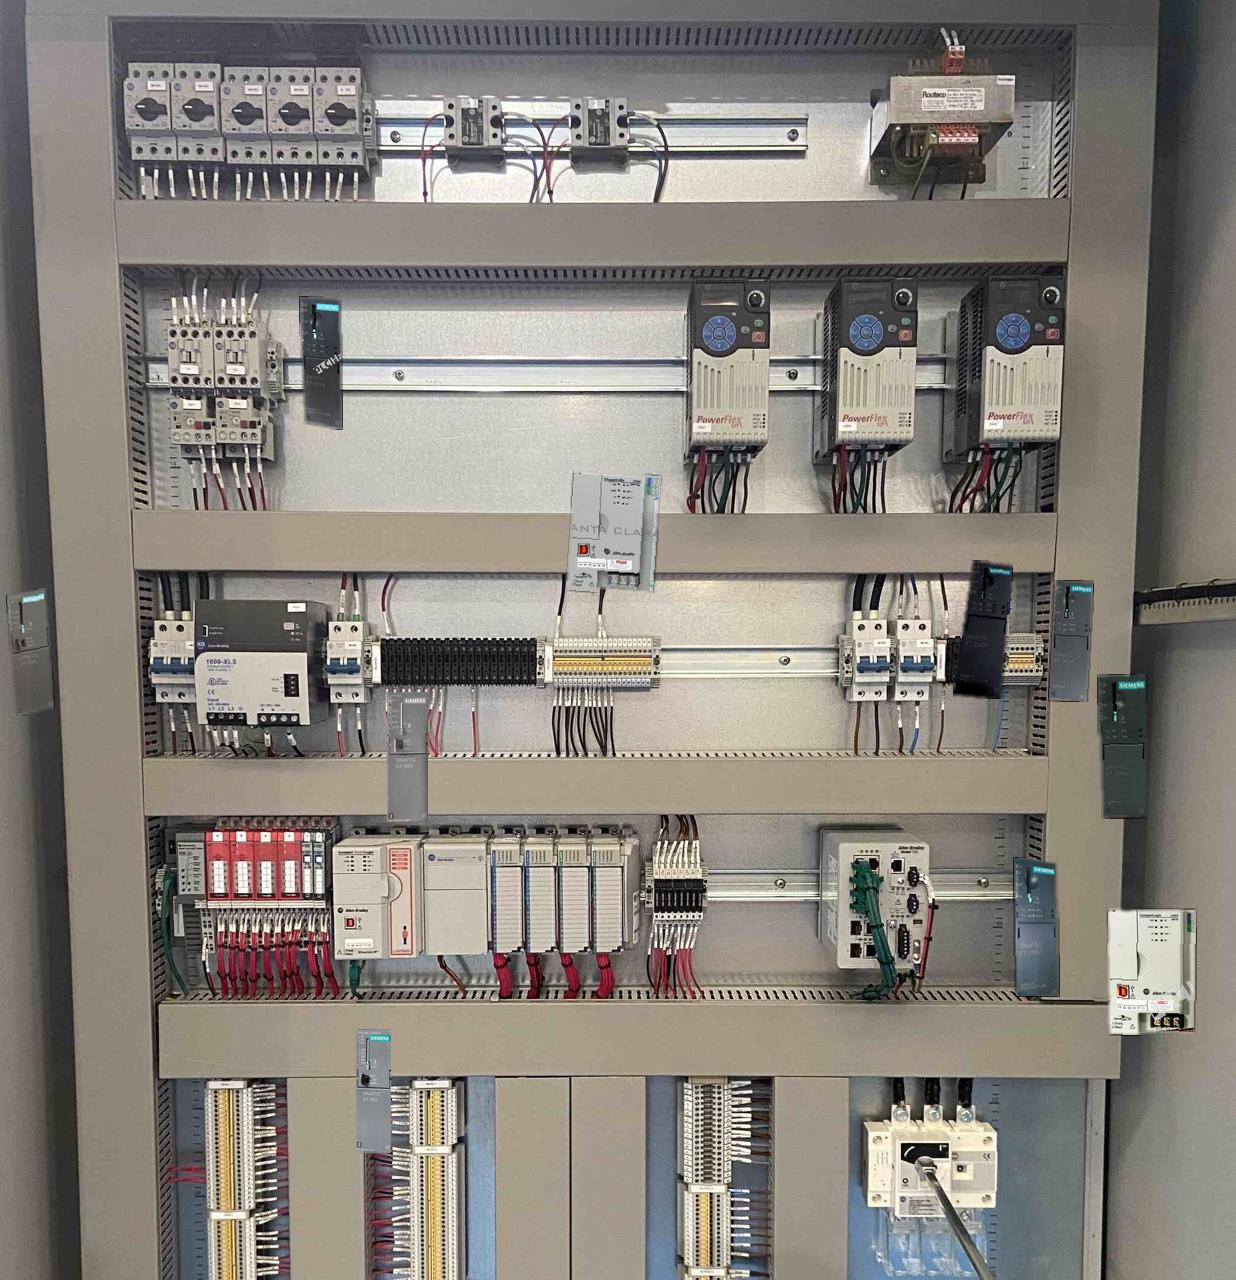AllenBradley: (567, 472, 659, 591), (1108, 910, 1195, 1034)
Siemens: (7, 587, 53, 715), (387, 693, 427, 821), (356, 1029, 390, 1152)
